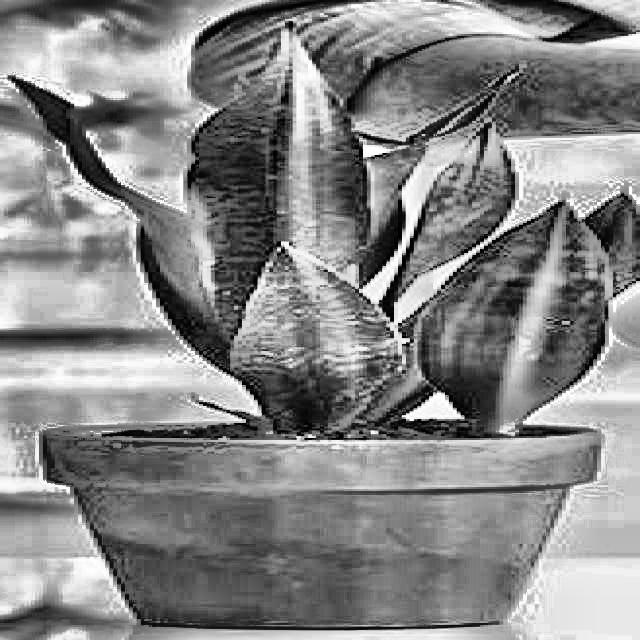plants: (31, 74, 636, 638)
